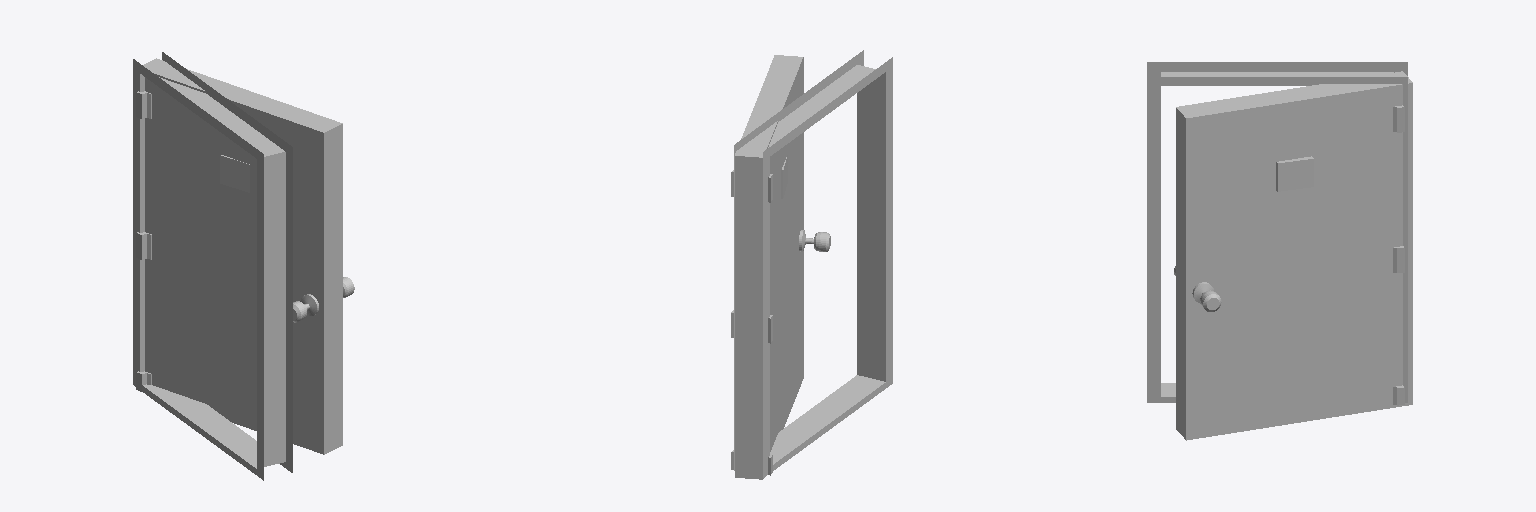
The model's file is Door_6_Open9.obj.
3 renders of one model, left to right at view 1: azimuth 30°, elevation 25°; view 2: azimuth 150°, elevation 25°; view 3: azimuth 270°, elevation 25°, orthographic.
Visible parts, largest first — view 1: Door.002, Frame_Door.005; view 2: Door.002, Frame_Door.005; view 3: Door.002, Frame_Door.005.
Part boxes in pixels (x1,y1,x2,y2): Door.002: (143,58,354,454); Frame_Door.005: (133,52,292,480); Door.002: (731,55,830,479); Frame_Door.005: (734,50,892,477); Door.002: (1174,71,1412,440); Frame_Door.005: (1147,62,1407,404).
Bounding box in the file's own units: 0.456 × 1.17 × 0.858.